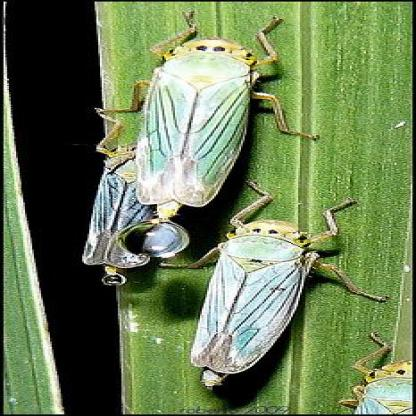Green-Leafhopper: (100, 12, 306, 234), (168, 184, 372, 393), (331, 335, 416, 416)
